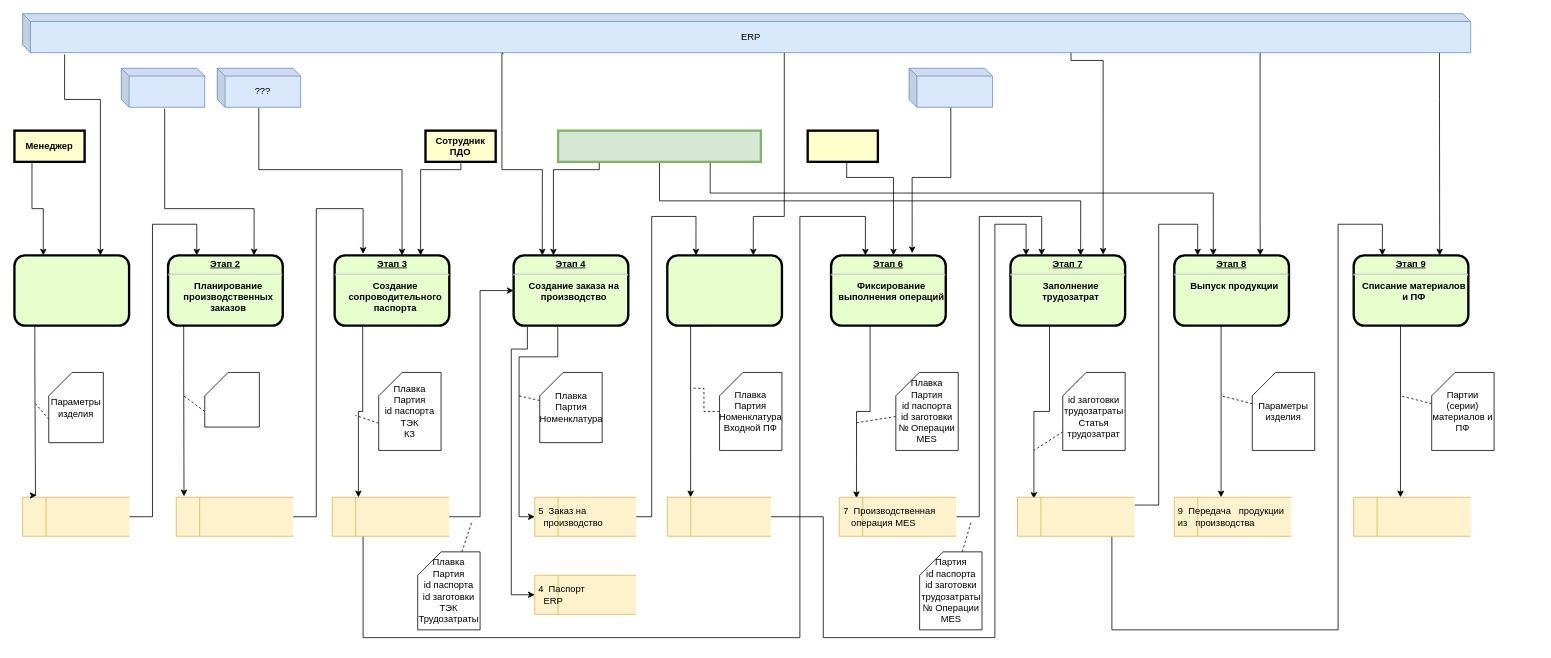
Some shapes in this 1551 by 658 pixel diagram are drawn without their labels. Each missing label, with the centre of its shape:
"1 Заказ клиента" belongs at [75,516].
"2 Производственный заказ" belongs at [234,516].
"3 Сопроводительный паспорт" belongs at [390,516].
"6 Этап производства" belongs at [719,516].
"8 Этап Заполненный" belongs at [1076,516].
"9 Передача материалов в производство" belongs at [1412,516].
"Logis" belongs at [163,87].
"АИС" belongs at [950,87].
"Интеграция" belongs at [659,146].
"Рабочий" belongs at [842,146].
"ТЭК КЗ" belongs at [231,399].
"Этап 1 Создание заказа клиента" belongs at [71,290].
"Этап 5 Создание этапа производства" belongs at [724,290].
